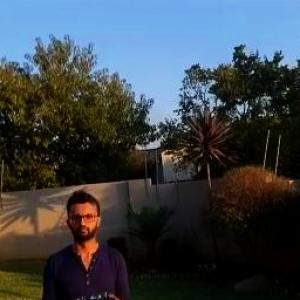follow: (38, 182, 138, 299)
